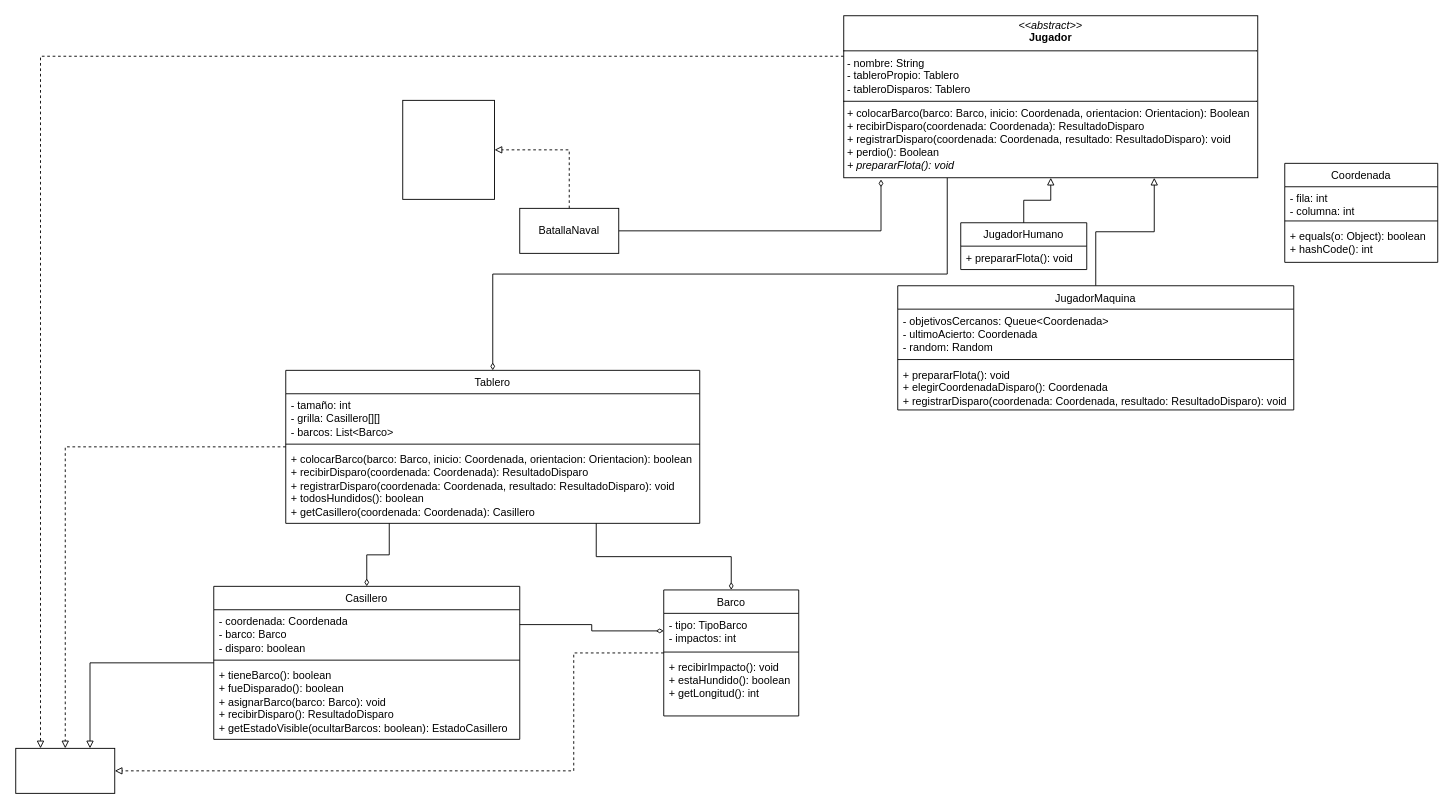
Image size: 1454x809. Some labels were removed from this diagram. The shapes that lost their labels are listed below. From the top down, each one's centre as x and y in pixels, then its label:
[448,149]: <<Interfaz>> IBatallaNaval + field1: Type + field2: Type
[65,770]: Serializable
